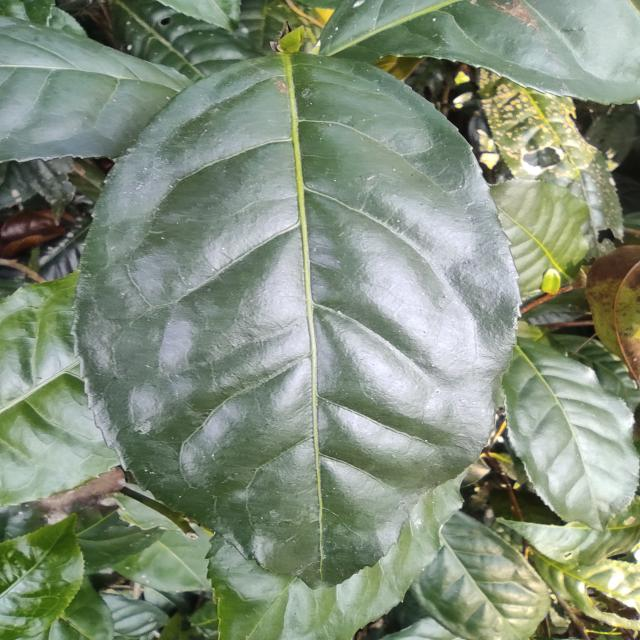Category D(7+ days, Not for Tea): (53, 39, 531, 579)
